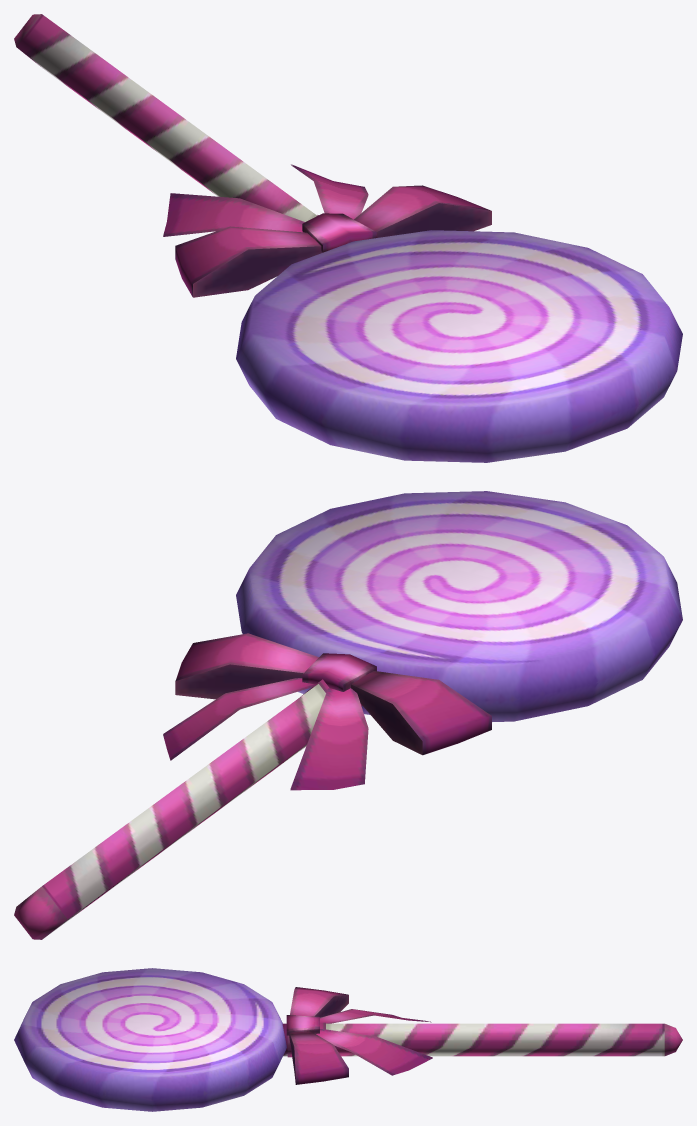
The model's file is sword0039.fbx.
The picture shows the model from 3 angles, top to bottom: view 1: azimuth 30°, elevation 25°; view 2: azimuth 150°, elevation 25°; view 3: azimuth 270°, elevation 25°; orthographic projection. The views are drawn at different scales.
Visible parts, largest first — view 1: sword0039_m; view 2: sword0039_m; view 3: sword0039_m.
Boxes of the visible parts, bbox=[...] form: sword0039_m: bbox=[14, 14, 682, 462]; sword0039_m: bbox=[14, 491, 682, 939]; sword0039_m: bbox=[14, 968, 682, 1111].
Bounding box in the file's own units: 0.33 × 0.0516 × 0.7981.
1 material, 1 textured.
